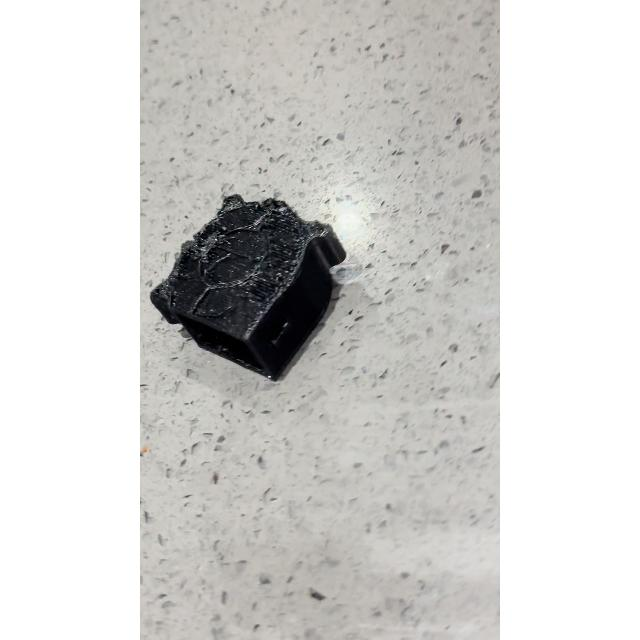Pieza_3: (147, 188, 357, 392)
